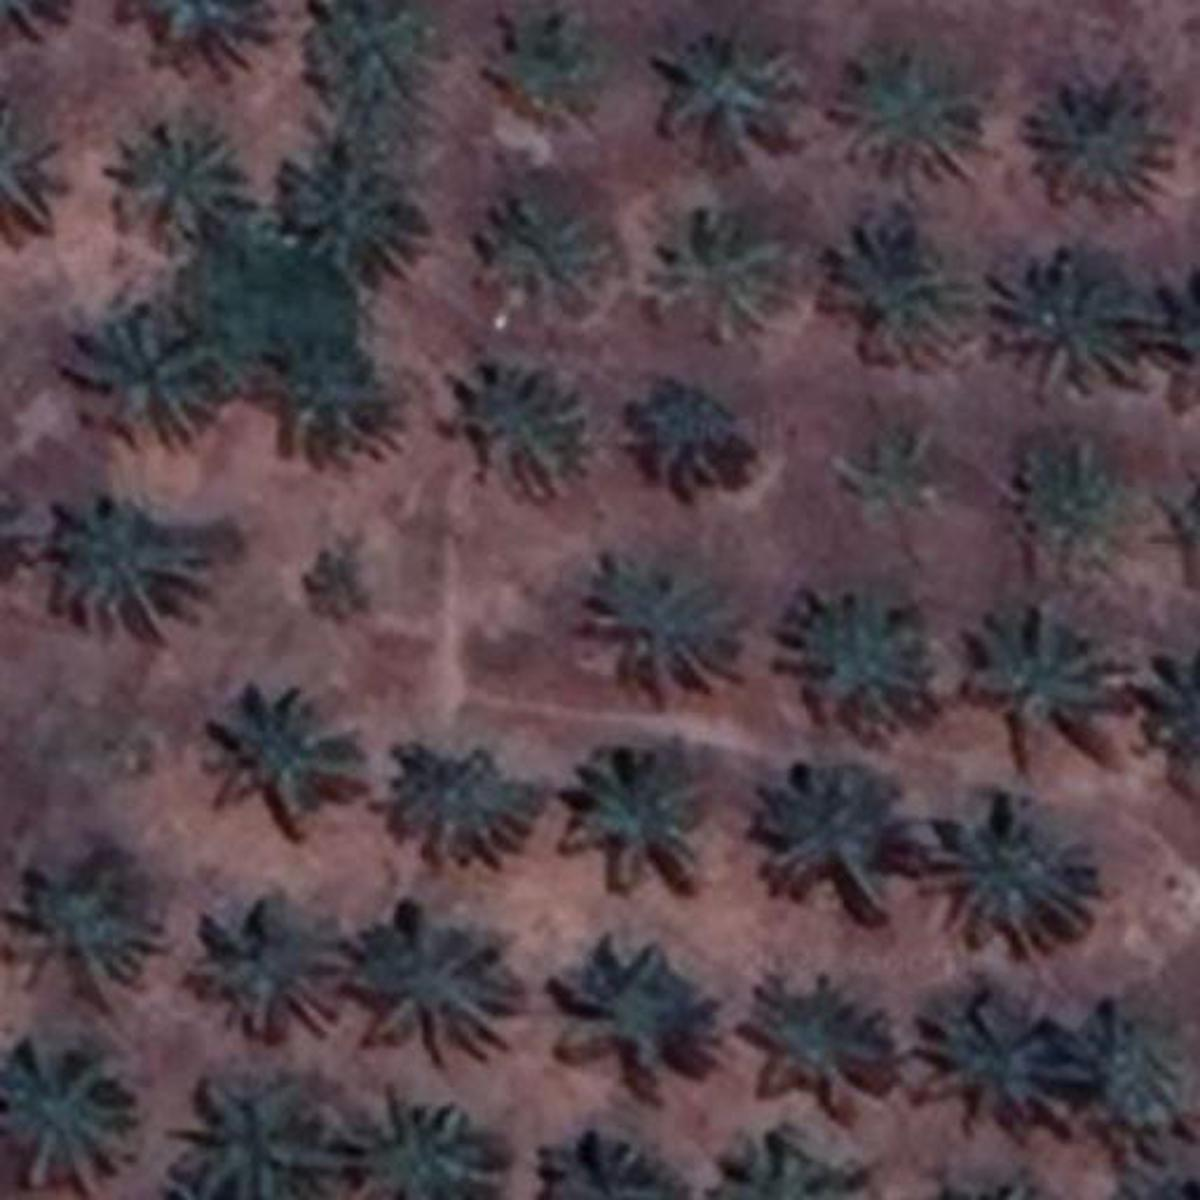coconut: (754, 754, 927, 925), (67, 288, 232, 452), (585, 548, 747, 710), (787, 574, 938, 745), (975, 602, 1125, 775), (51, 495, 208, 653), (2, 843, 162, 993), (562, 740, 721, 888), (555, 938, 716, 1085), (205, 682, 356, 836), (942, 803, 1095, 949), (993, 243, 1136, 398), (391, 733, 543, 876), (199, 890, 344, 1035), (754, 970, 895, 1120), (367, 909, 508, 1052), (1027, 63, 1169, 201), (846, 44, 982, 185), (285, 145, 421, 285), (0, 1045, 131, 1190), (829, 232, 963, 370), (459, 363, 595, 499), (658, 203, 782, 351), (658, 25, 796, 157), (107, 119, 243, 251), (937, 998, 1071, 1125), (278, 338, 405, 471), (178, 1082, 314, 1200), (1021, 435, 1132, 578), (1064, 993, 1181, 1127), (638, 375, 759, 501), (478, 187, 597, 309), (825, 414, 944, 534), (482, 14, 597, 124), (304, 0, 433, 91), (285, 520, 389, 627)
